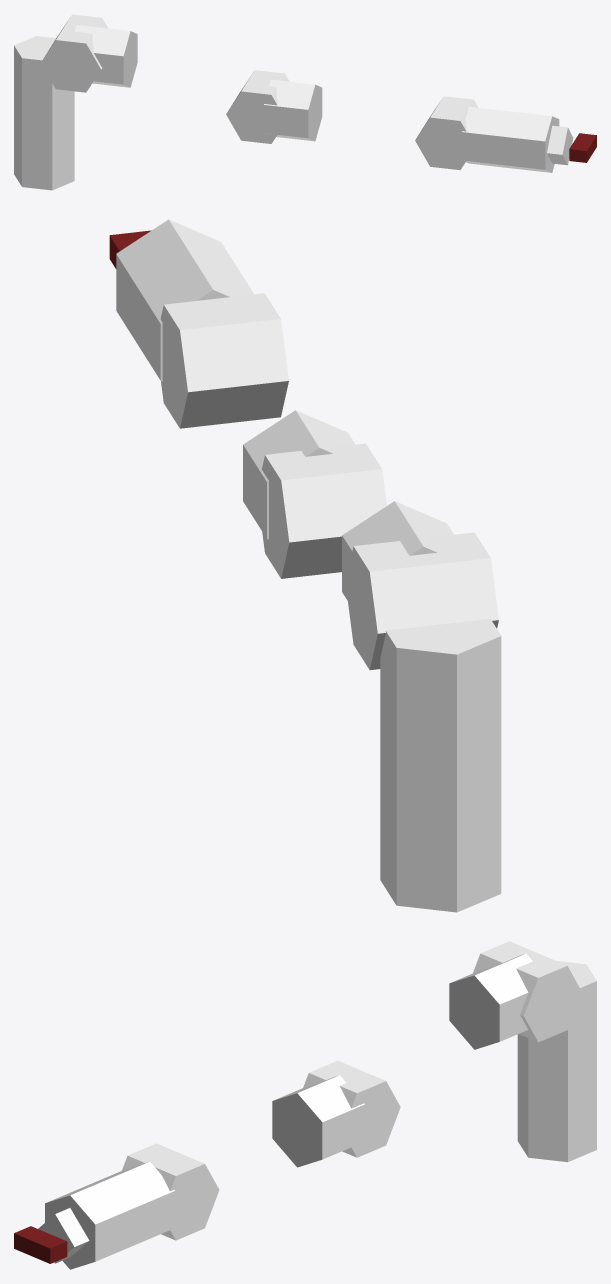
File: baxter_arm.accurate.right.dae
3 renders of one model, top to bottom at view 1: azimuth 30°, elevation 25°; view 2: azimuth 150°, elevation 25°; view 3: azimuth 270°, elevation 25°, orthographic. The views are drawn at different scales.
Parts seen in each view (by area): view 1: right_upper_shoulder, right_wrist, right_lower_shoulder, right_upper_forearm, right_lower_forearm, right_lower_elbow, right_upper_elbow, right_hand, right_gripper; view 2: right_upper_shoulder, right_lower_forearm, right_lower_shoulder, right_lower_elbow, right_wrist, right_upper_forearm, right_upper_elbow; view 3: right_upper_shoulder, right_wrist, right_upper_forearm, right_upper_elbow, right_lower_shoulder, right_lower_forearm, right_lower_elbow, right_gripper, right_hand.
Boxes of the visible parts, x1,y1,x2,y2 form: right_upper_shoulder: [14, 36, 74, 190]; right_wrist: [462, 106, 559, 172]; right_lower_shoulder: [41, 14, 107, 92]; right_upper_forearm: [264, 79, 322, 141]; right_lower_forearm: [415, 96, 478, 170]; right_lower_elbow: [226, 70, 289, 143]; right_upper_elbow: [75, 25, 137, 87]; right_hand: [547, 125, 573, 165]; right_gripper: [569, 133, 596, 162]; right_upper_shoulder: [380, 619, 501, 912]; right_lower_forearm: [160, 293, 288, 428]; right_lower_shoulder: [345, 532, 498, 670]; right_lower_elbow: [262, 443, 386, 578]; right_wrist: [116, 219, 253, 381]; right_upper_forearm: [243, 410, 355, 539]; right_upper_elbow: [342, 501, 453, 600]; right_upper_shoulder: [517, 961, 596, 1162]; right_wrist: [45, 1161, 175, 1269]; right_upper_forearm: [272, 1075, 364, 1167]; right_upper_elbow: [449, 953, 532, 1049]; right_lower_shoulder: [473, 941, 581, 1042]; right_lower_forearm: [122, 1143, 219, 1240]; right_lower_elbow: [303, 1060, 400, 1157]; right_gripper: [14, 1226, 67, 1263]; right_hand: [38, 1208, 89, 1263].
Size of the model in its own units: 0.8515 by 0.8515 by 0.3303.
